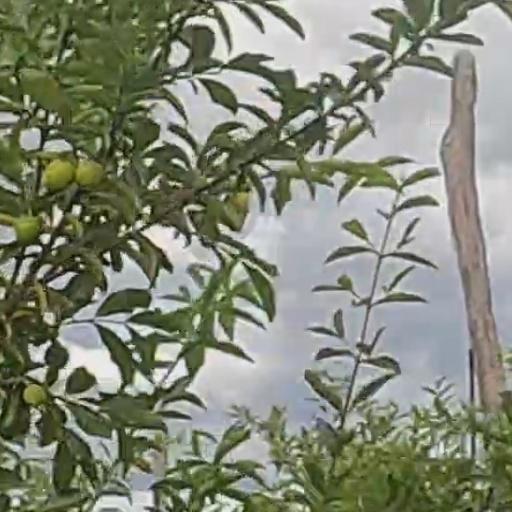acerola: (44, 159, 71, 186), (76, 161, 102, 187), (16, 218, 40, 243)
